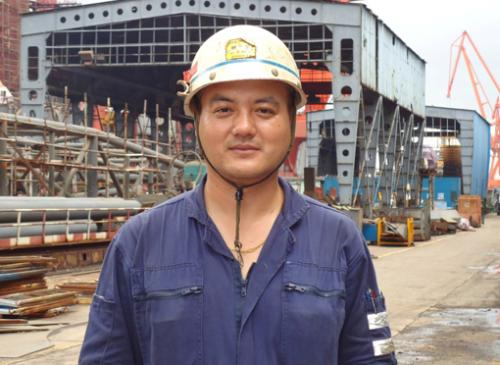hard-hat: (179, 24, 308, 118)
person: (75, 24, 399, 365)
ppe-suit: (74, 172, 400, 364)
